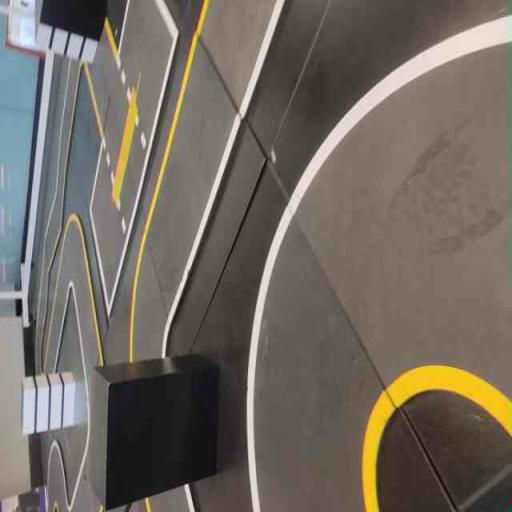left: (272, 18, 511, 511)
